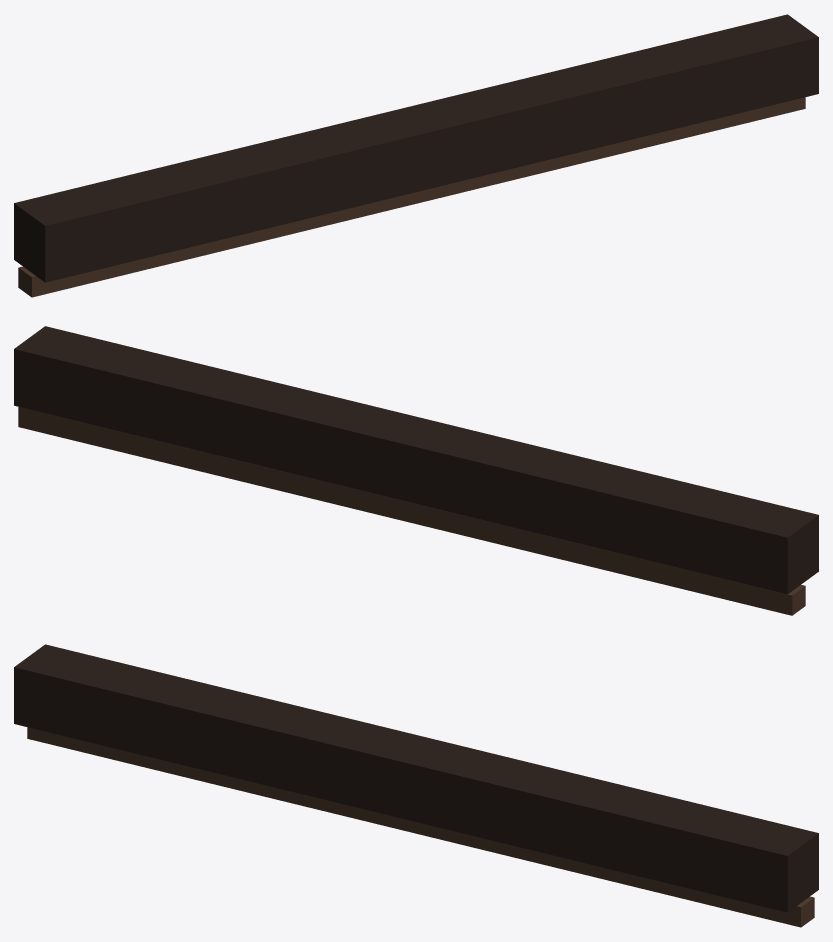
Rendered from kit_manor_coping.glb.
The picture shows the model from 3 angles, top to bottom: view 1: azimuth 30°, elevation 25°; view 2: azimuth 150°, elevation 25°; view 3: azimuth 330°, elevation 25°; orthographic projection.
Parts seen in each view (by area): view 1: kit_manor_coping; view 2: kit_manor_coping; view 3: kit_manor_coping.
Part boxes in pixels (box(x1,y1,x2,y2)): kit_manor_coping: box(14, 14, 818, 297); kit_manor_coping: box(14, 326, 818, 615); kit_manor_coping: box(14, 644, 818, 927).
Bounding box in the file's own units: 1 × 0.1005 × 0.07.
